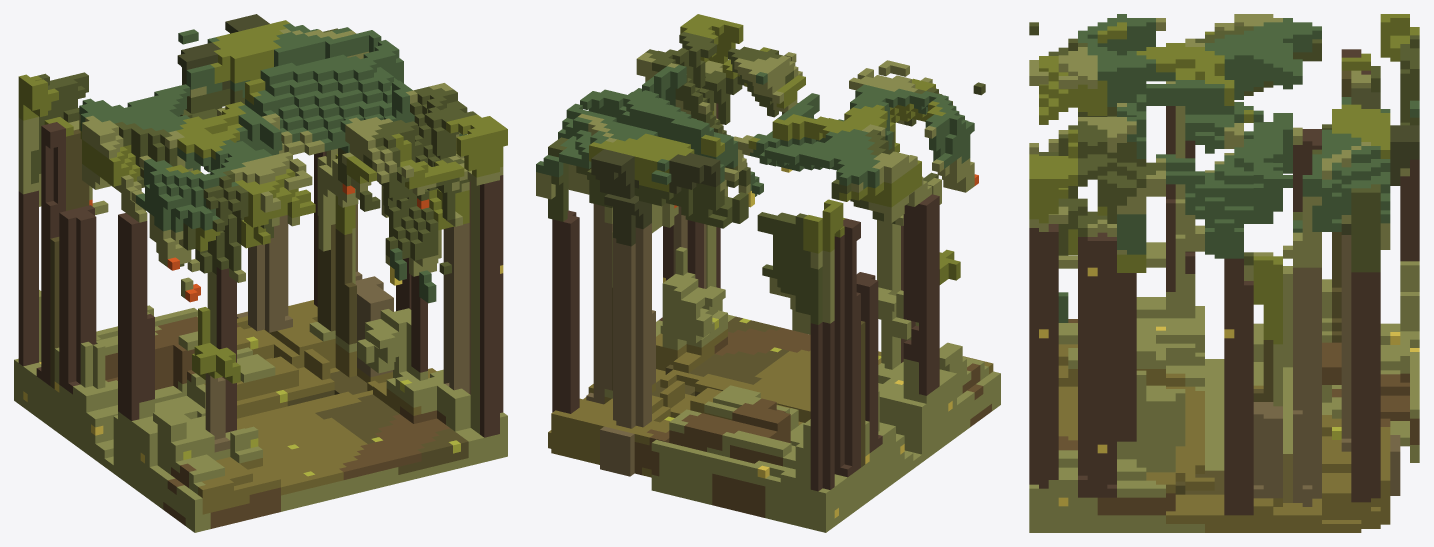
The picture shows the model from 3 angles, left to right: view 1: azimuth 30°, elevation 25°; view 2: azimuth 150°, elevation 25°; view 3: azimuth 270°, elevation 25°; orthographic projection. The views are drawn at different scales.
Parts seen in each view (by area): view 1: mu; view 2: mu; view 3: mu.
Part boxes in pixels (bbox=[...]): mu: bbox=[14, 14, 507, 532]; mu: bbox=[536, 14, 1000, 532]; mu: bbox=[1029, 14, 1419, 532].
Bounding box in the file's own units: 40 × 40 × 40.
Materials: 1 (1 with a texture image).
